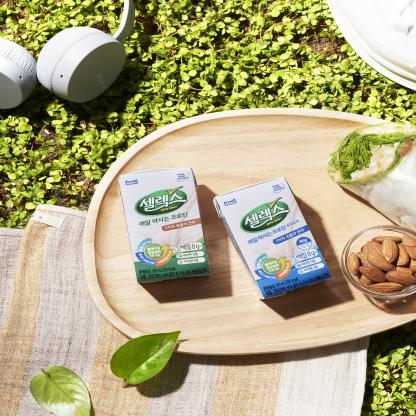tetra: (208, 157, 344, 318), (114, 150, 214, 300)
